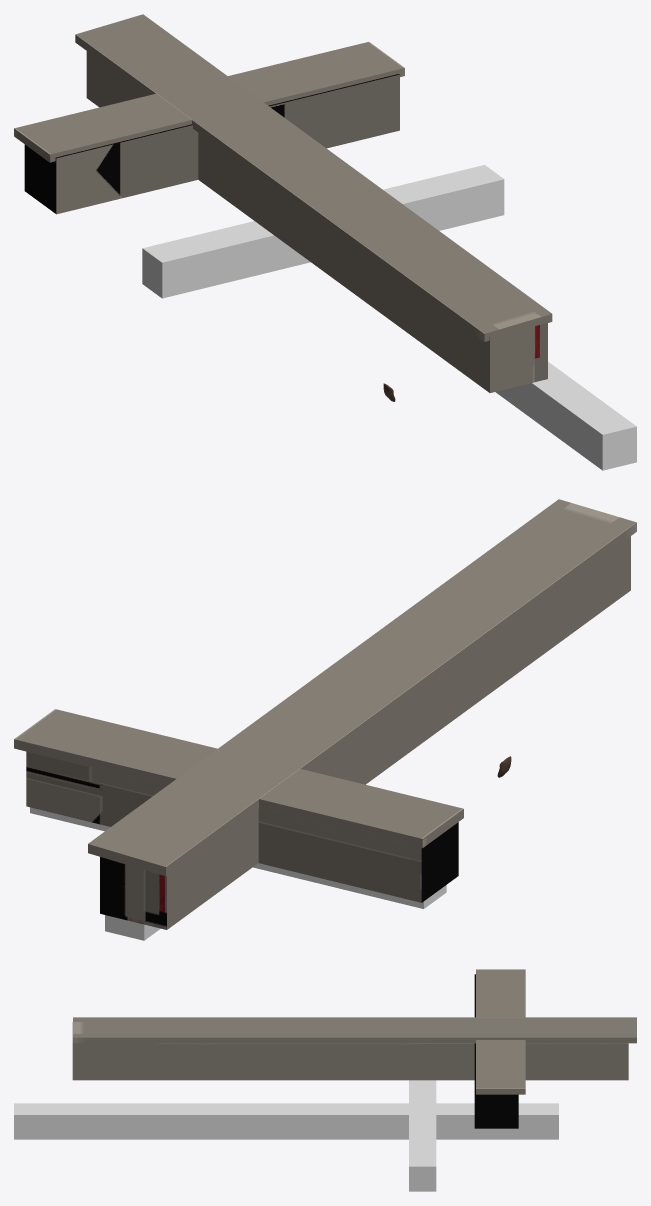
Rendered from new_cross.fbx.
3 views of the same model, one above another, from view 1: azimuth 30°, elevation 25°; view 2: azimuth 150°, elevation 25°; view 3: azimuth 270°, elevation 25° (orthographic). The views are drawn at different scales.
Visible parts, largest first — view 1: LId, Cross.002, Cube.086.002; view 2: LId, Cross.002, Cube.086.002; view 3: Cube.086.002, Cross.002, LId.
Part boxes in pixels (x1=…): LId: x1=14, y1=14, x2=552, y2=341; Cross.002: x1=24, y1=51, x2=547, y2=392; Cube.086.002: x1=142, y1=165, x2=636, y2=470; LId: x1=14, y1=499, x2=636, y2=876; Cross.002: x1=26, y1=536, x2=630, y2=929; Cube.086.002: x1=30, y1=807, x2=446, y2=940; Cube.086.002: x1=14, y1=1080, x2=558, y2=1191; Cross.002: x1=72, y1=974, x2=628, y2=1128; LId: x1=73, y1=969, x2=636, y2=1094.
Size of the model in its own units: 474 by 168 by 915.
